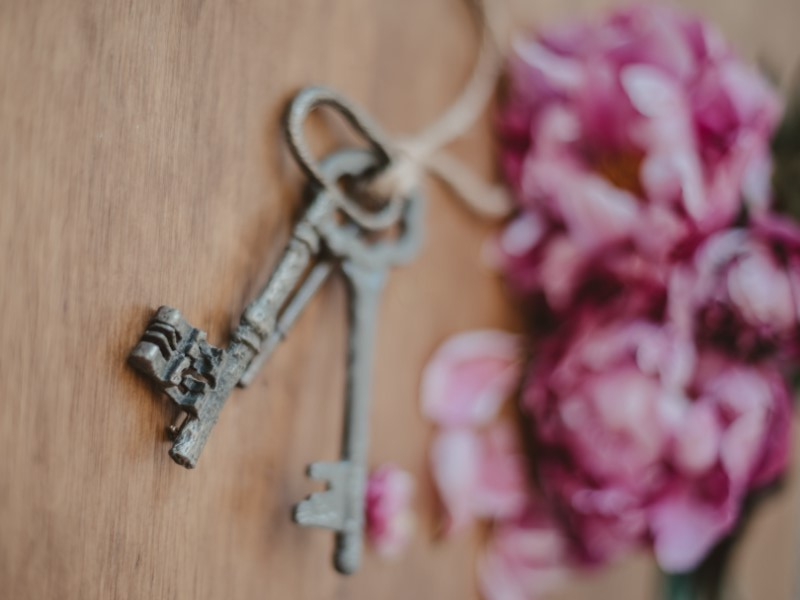key: (124, 81, 419, 574)
